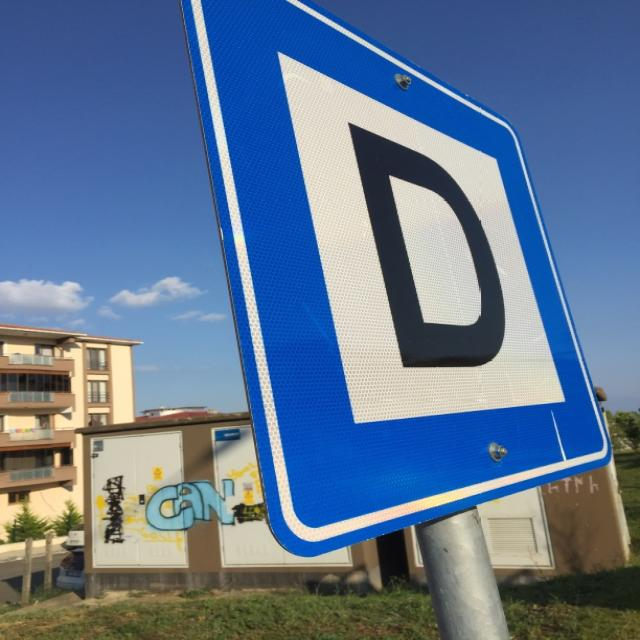durak: (176, 1, 615, 561)
